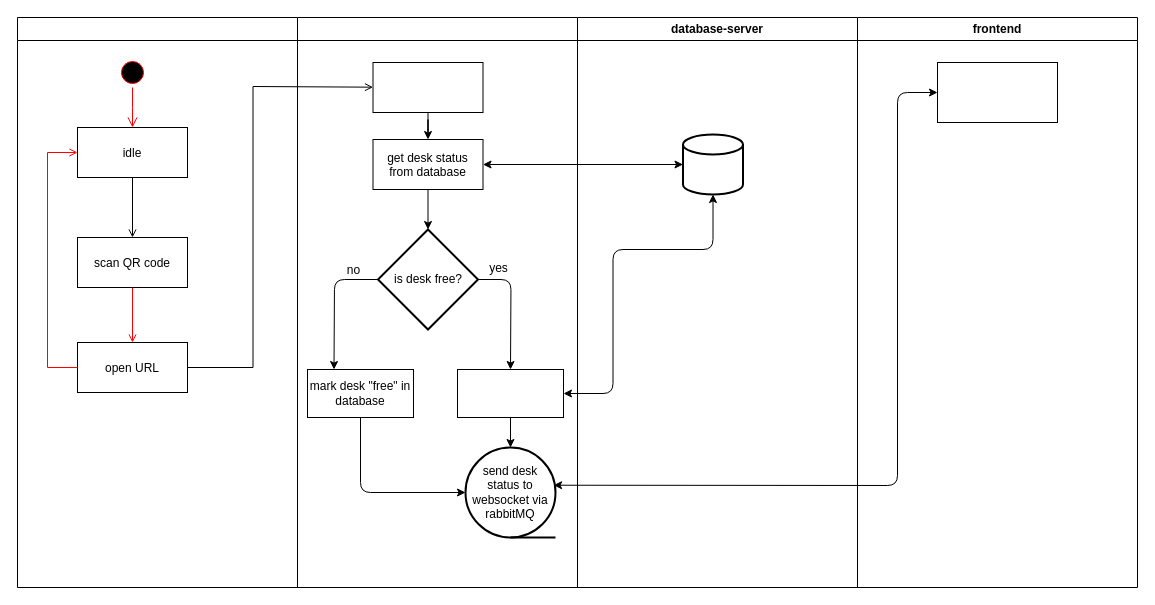
Some shapes in this 1155 by 605 pixel diagram are drawn without their labels. The box of each missing label's shape, as (x1, y1, x2, y2) in pixels:
backend-server: (296, 16, 578, 588)
employe's phone: (16, 16, 298, 588)
extract workspace uuid from URL params: (372, 62, 483, 112)
mark desk "occupied" in database: (456, 368, 564, 418)
show seats statistic: (936, 62, 1058, 122)
